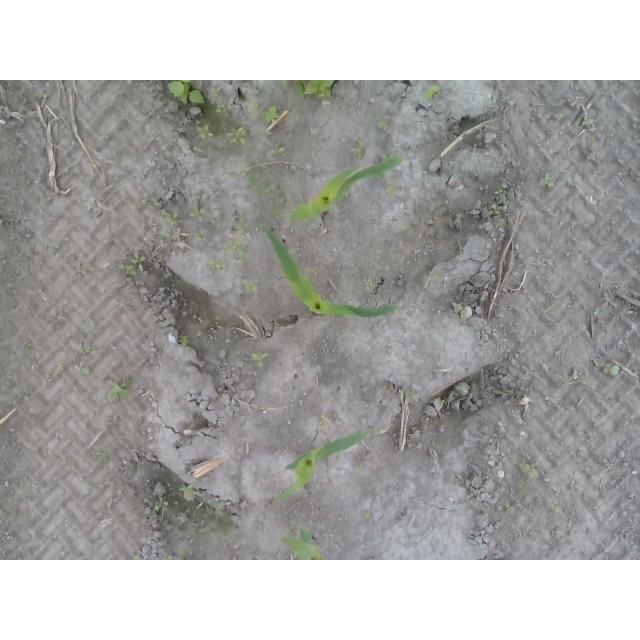Maize: (261, 219, 402, 320), (275, 155, 406, 221), (280, 431, 368, 497), (279, 526, 324, 560)
Weeds: (166, 80, 206, 108), (241, 167, 271, 194), (187, 193, 213, 224), (115, 253, 145, 275), (488, 183, 504, 217), (305, 80, 335, 98), (107, 378, 129, 401), (224, 127, 248, 146), (197, 118, 218, 138), (260, 103, 280, 124), (226, 238, 246, 258), (207, 103, 232, 118), (518, 463, 542, 478), (350, 138, 366, 160), (251, 351, 270, 369), (207, 256, 225, 273), (423, 84, 441, 101), (165, 209, 184, 225), (386, 183, 400, 202), (178, 483, 194, 499), (602, 363, 620, 377), (238, 215, 251, 234), (243, 278, 258, 294), (245, 97, 260, 113), (192, 229, 209, 243), (291, 80, 305, 97), (193, 506, 212, 518), (154, 497, 169, 512), (271, 144, 286, 157), (178, 335, 191, 349), (399, 222, 417, 232), (581, 113, 593, 128), (543, 171, 554, 187), (95, 451, 112, 461), (32, 91, 48, 101), (159, 227, 172, 239), (400, 86, 414, 97), (80, 345, 96, 353), (279, 489, 288, 503), (407, 386, 417, 398), (376, 122, 389, 131), (160, 552, 173, 561), (459, 304, 466, 320), (23, 342, 33, 353), (431, 271, 442, 281), (518, 483, 528, 494), (361, 509, 371, 520), (211, 87, 221, 97), (131, 550, 141, 560), (368, 279, 377, 290), (82, 368, 93, 376), (558, 112, 567, 121), (356, 464, 365, 473), (57, 360, 66, 369), (504, 504, 512, 512), (218, 501, 224, 511)
